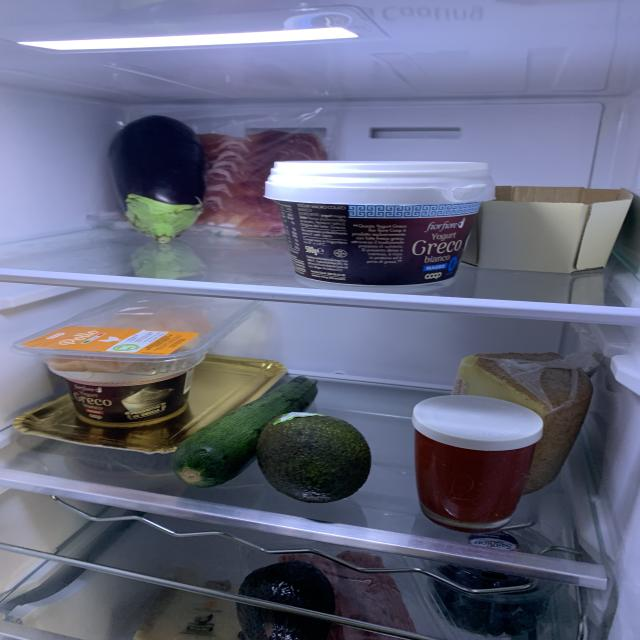aubergine: (112, 115, 210, 242)
avocado: (258, 411, 370, 500), (240, 563, 334, 640)
blueberries: (430, 564, 552, 630)
chicken_breast: (19, 295, 246, 376)
courgettes: (170, 374, 316, 486)
ground_beef: (277, 551, 421, 640)
ham: (203, 117, 328, 243)
mid_seasoned_cheese: (450, 355, 592, 489)
parmesan_cheese: (129, 579, 237, 640)
tomato_sauce: (408, 395, 544, 527)
yoghurt: (264, 160, 489, 286), (49, 364, 203, 426)
